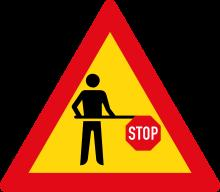Stop: (10, 1, 215, 191)
